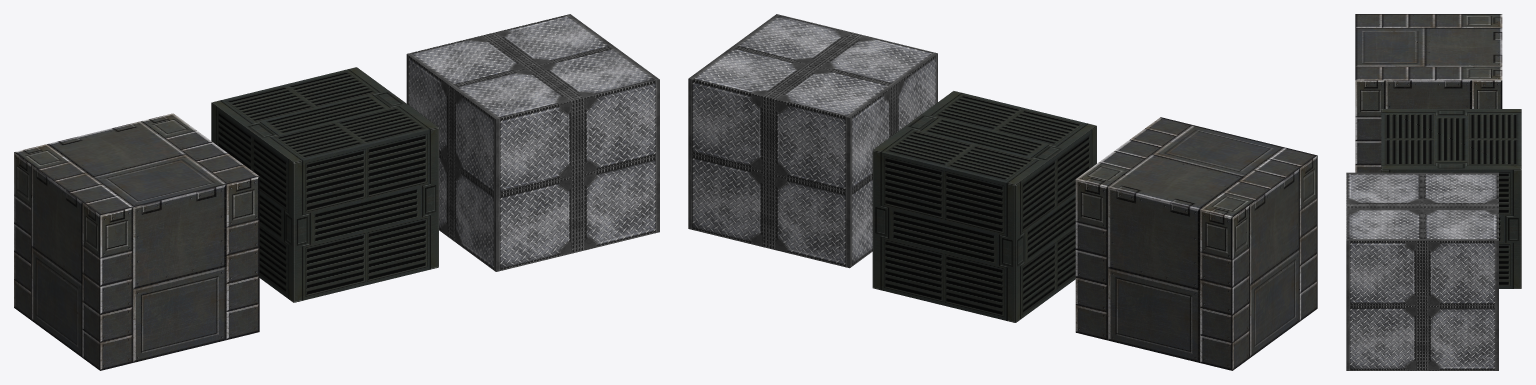
The model's file is industrial box metal containers .obj.
The picture shows the model from 3 angles, left to right: view 1: azimuth 30°, elevation 25°; view 2: azimuth 150°, elevation 25°; view 3: azimuth 270°, elevation 25°; orthographic projection. The views are drawn at different scales.
Visible parts, largest first — view 1: box3, box1, box2; view 2: box3, box1, box2; view 3: box1, box3, box2.
Part boxes in pixels (x1,y1,x2,y2): box3: [14, 113, 259, 370]; box1: [406, 14, 659, 271]; box2: [211, 67, 438, 302]; box3: [1075, 117, 1317, 370]; box1: [688, 14, 937, 268]; box2: [872, 91, 1096, 322]; box1: [1346, 172, 1498, 370]; box3: [1355, 14, 1502, 172]; box2: [1381, 109, 1521, 288].
Bounding box in the file's own units: 8.64 × 2.38 × 2.78.
3 materials, 3 textured.
